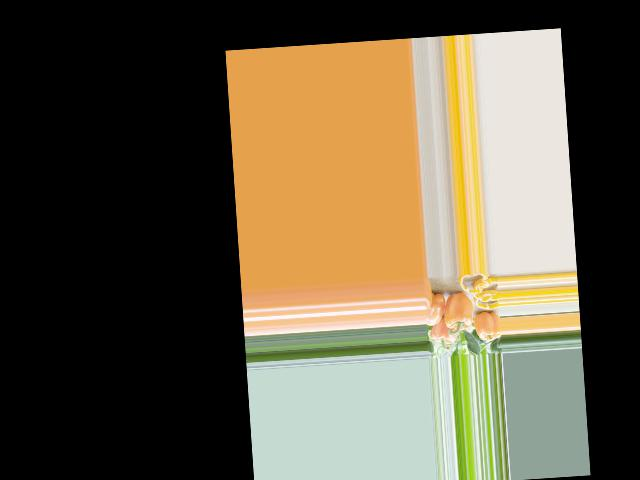bell_pepper: (424, 291, 446, 326)
